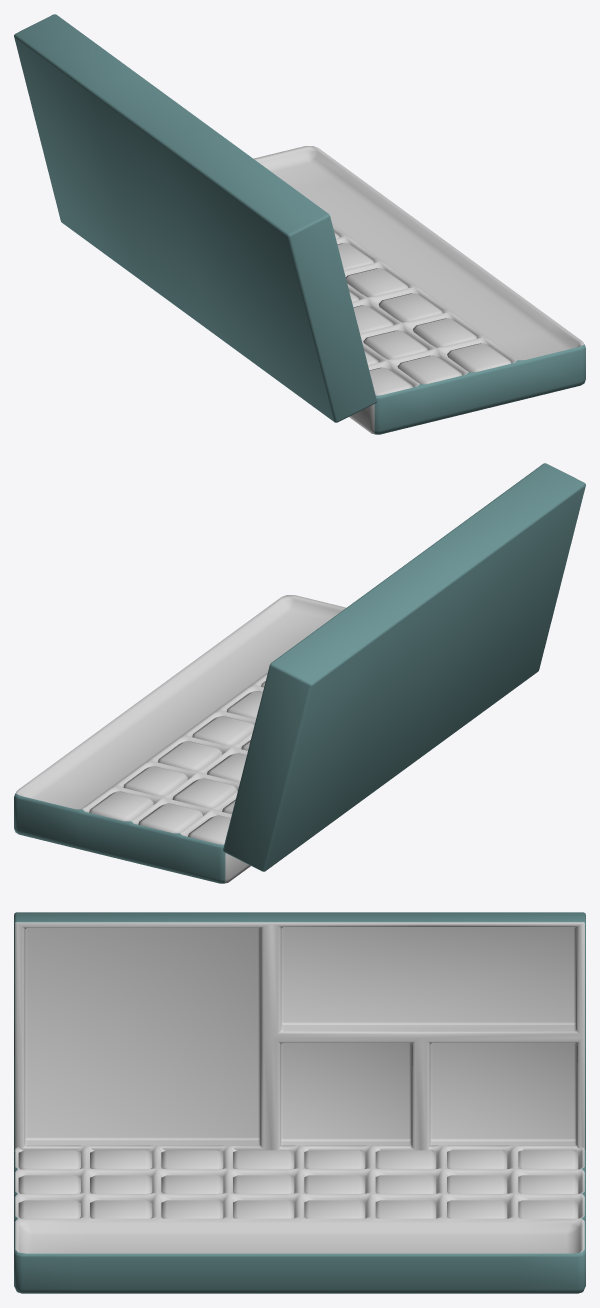
Rendered from ColorBox.fbx.
The picture shows the model from 3 angles, top to bottom: view 1: azimuth 30°, elevation 25°; view 2: azimuth 150°, elevation 25°; view 3: azimuth 270°, elevation 25°; orthographic projection. The views are drawn at different scales.
Parts seen in each view (by area): view 1: ColorBoxLid, ColorBox, Color17, Color18, Color10, Color19, Color9, Color20, Color, Color11, Color21; view 2: ColorBoxLid, ColorBox, Color23, Color24, Color22, Color15, Color16, Color21, Color8, Color14, Color20; view 3: ColorBoxLid, ColorBox, Color, Color2, Color3, Color4, Color5, Color6, Color8, Color7, Color10, Color11 (+14 smaller).
Part boxes in pixels (x1=…): ColorBoxLid: x1=14, y1=14, x2=376, y2=422; ColorBox: x1=254, y1=146, x2=585, y2=434; Color17: x1=447, y1=343, x2=511, y2=372; Color18: x1=413, y1=318, x2=476, y2=347; Color10: x1=363, y1=330, x2=427, y2=359; Color19: x1=378, y1=293, x2=442, y2=322; Color9: x1=397, y1=355, x2=462, y2=384; Color20: x1=346, y1=268, x2=408, y2=297; Color: x1=369, y1=367, x2=413, y2=395; Color11: x1=353, y1=305, x2=393, y2=333; Color21: x1=337, y1=243, x2=373, y2=269; ColorBoxLid: x1=223, y1=463, x2=585, y2=871; ColorBox: x1=14, y1=595, x2=346, y2=883; Color23: x1=123, y1=766, x2=187, y2=796; Color24: x1=89, y1=791, x2=153, y2=821; Color22: x1=158, y1=741, x2=222, y2=771; Color15: x1=172, y1=778, x2=237, y2=808; Color16: x1=138, y1=803, x2=202, y2=833; Color21: x1=192, y1=716, x2=254, y2=746; Color8: x1=187, y1=815, x2=230, y2=844; Color14: x1=207, y1=753, x2=246, y2=782; Color20: x1=226, y1=691, x2=262, y2=718; ColorBoxLid: x1=14, y1=912, x2=585, y2=1151; ColorBox: x1=14, y1=1145, x2=585, y2=1293; Color: x1=18, y1=1150, x2=80, y2=1169; Color2: x1=90, y1=1150, x2=152, y2=1169; Color3: x1=161, y1=1150, x2=223, y2=1169; Color4: x1=233, y1=1150, x2=294, y2=1169; Color5: x1=304, y1=1150, x2=365, y2=1169; Color6: x1=375, y1=1150, x2=436, y2=1169; Color8: x1=518, y1=1150, x2=578, y2=1169; Color7: x1=447, y1=1150, x2=507, y2=1169; Color10: x1=90, y1=1175, x2=152, y2=1193; Color11: x1=161, y1=1175, x2=223, y2=1193.
Size of the model in its own units: 179 by 134 by 284.
